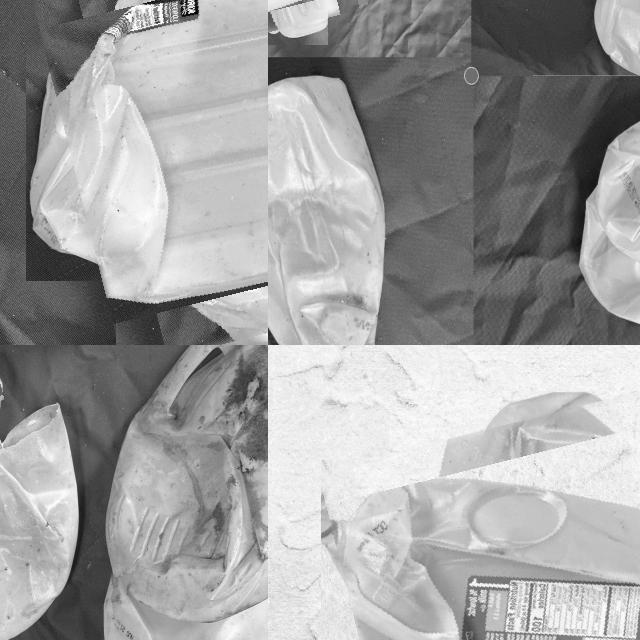milk-jug: (50, 0, 268, 345), (336, 407, 640, 640), (106, 345, 268, 629), (268, 75, 385, 345), (0, 393, 75, 640), (573, 103, 640, 330), (84, 569, 268, 640)
